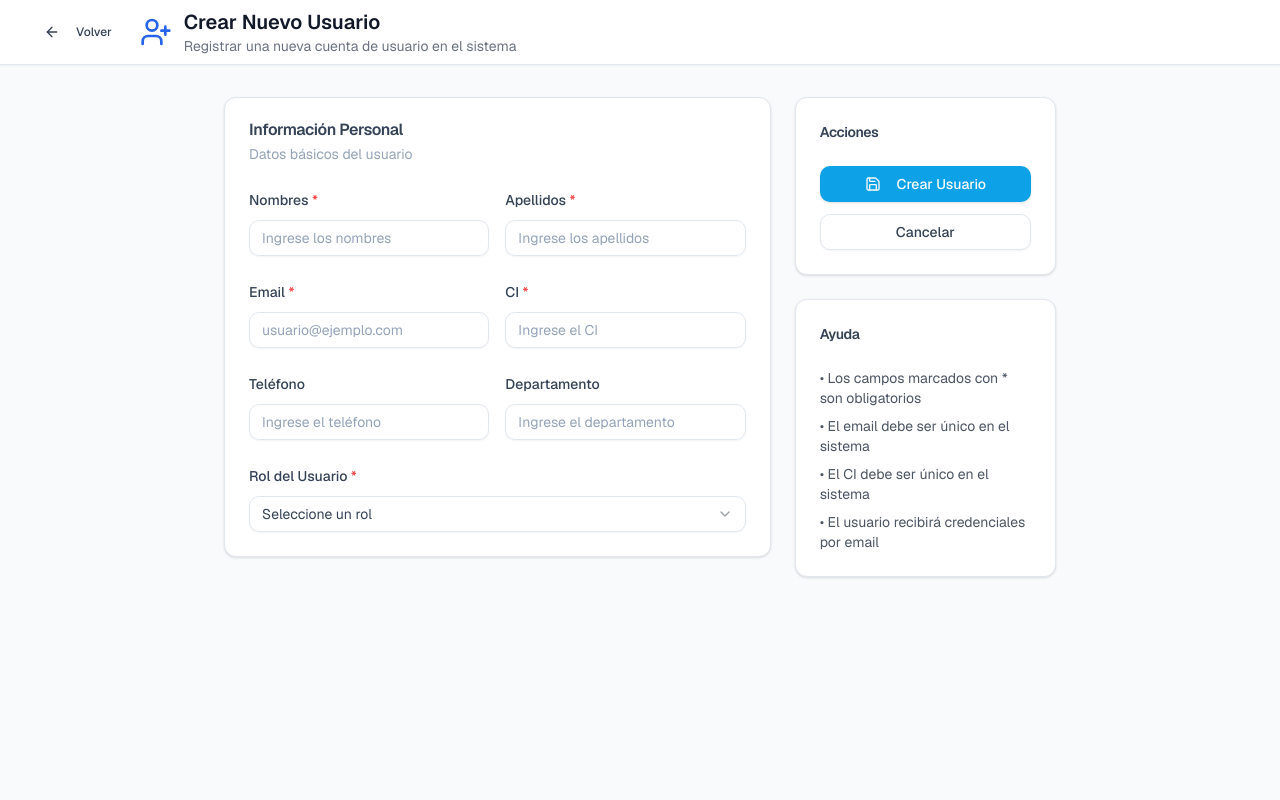
it: User Management Components › CreateUserPage › should validate required fields
Click the button "Crear Usuario".
click(925, 184)  # box [820,166,1031,202]
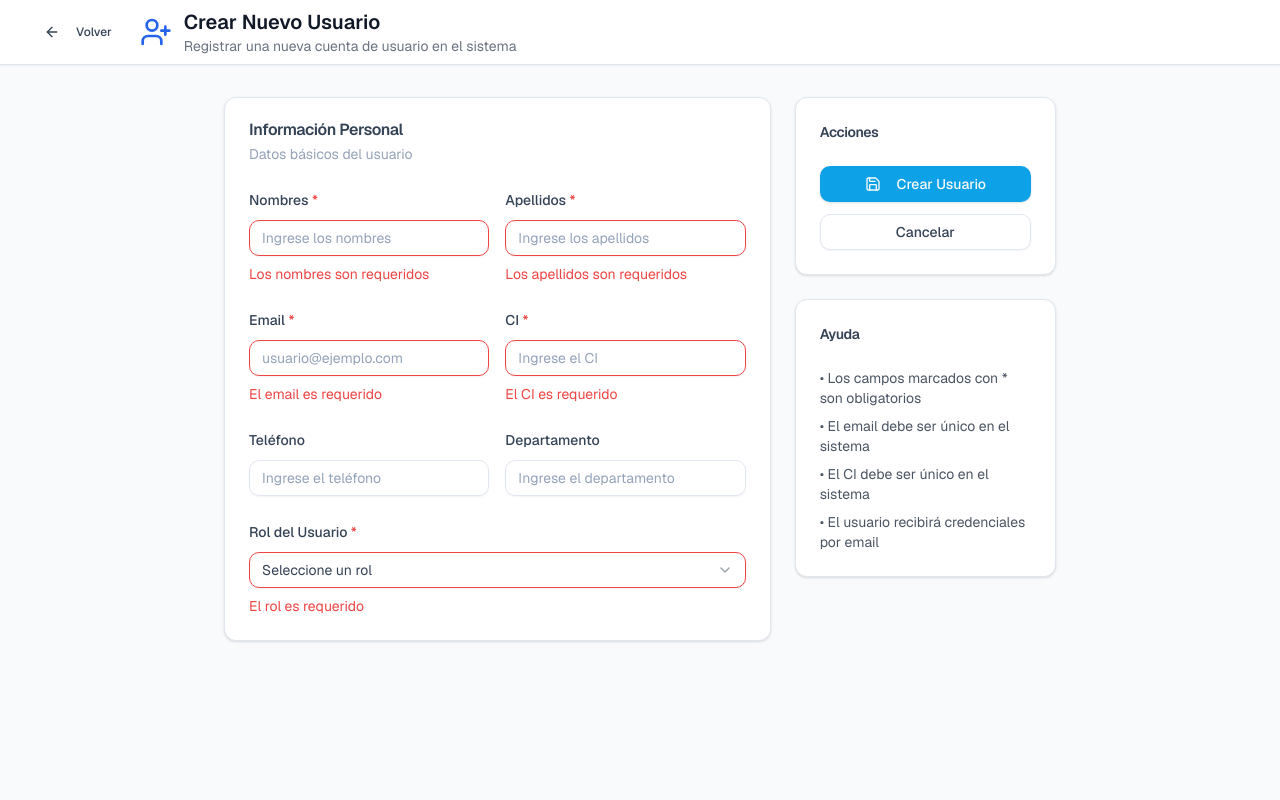
Check: the text "Los nombres son requeridos" is shown, box [249,265,429,283]
Check: the text "Los apellidos son requeridos" is shown, box [505,265,687,283]
Check: the text "El email es requerido" is shown, box [249,385,382,403]
